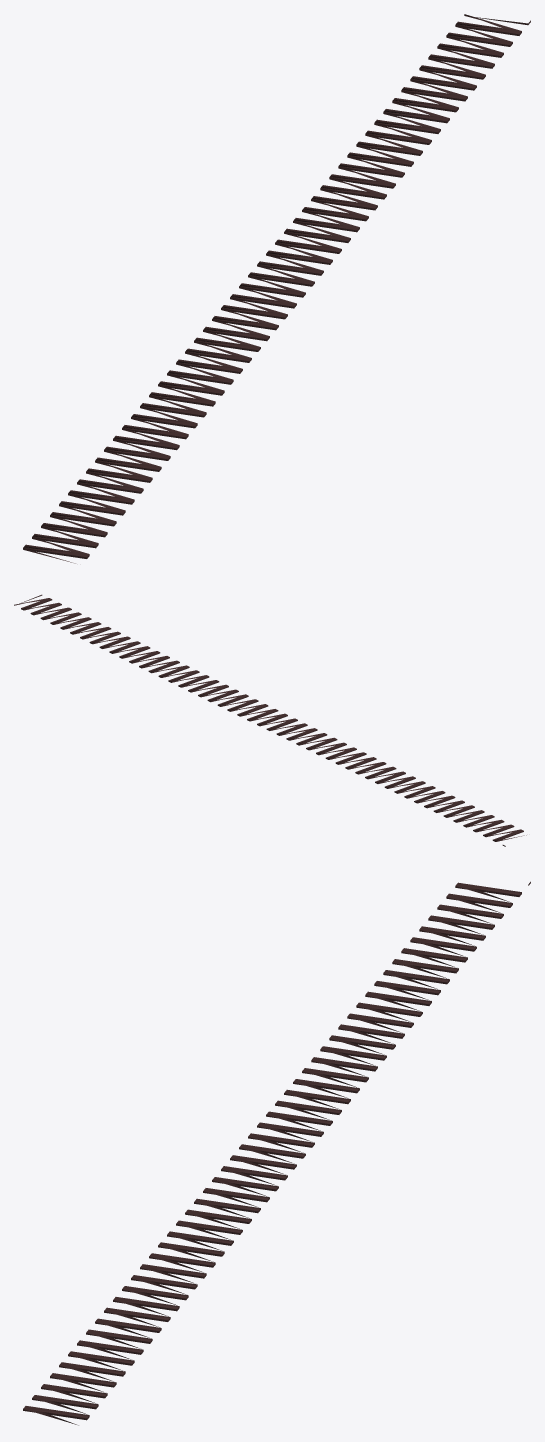
The picture shows the model from 3 angles, top to bottom: view 1: azimuth 90°, elevation 25°; view 2: azimuth 150°, elevation 25°; view 3: azimuth 270°, elevation 25°; orthographic projection. The views are drawn at different scales.
Bounding box in the file's own units: 41.02 × 0.064 × 16.27.
